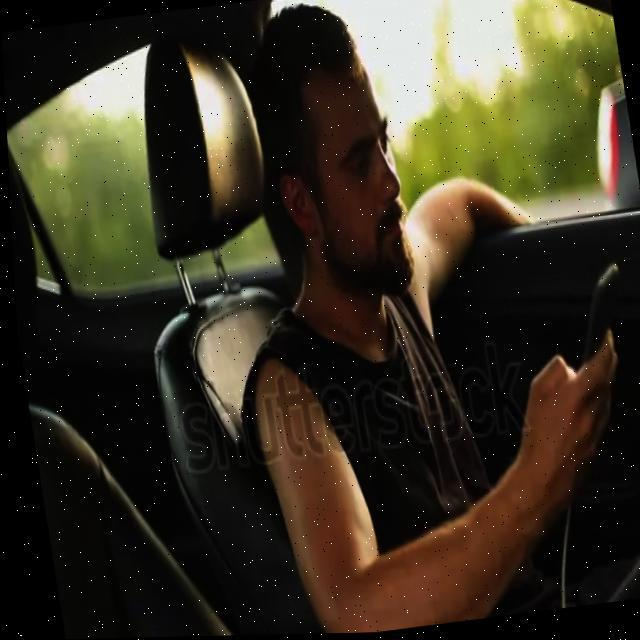PhoneCall: (558, 266, 628, 376)
